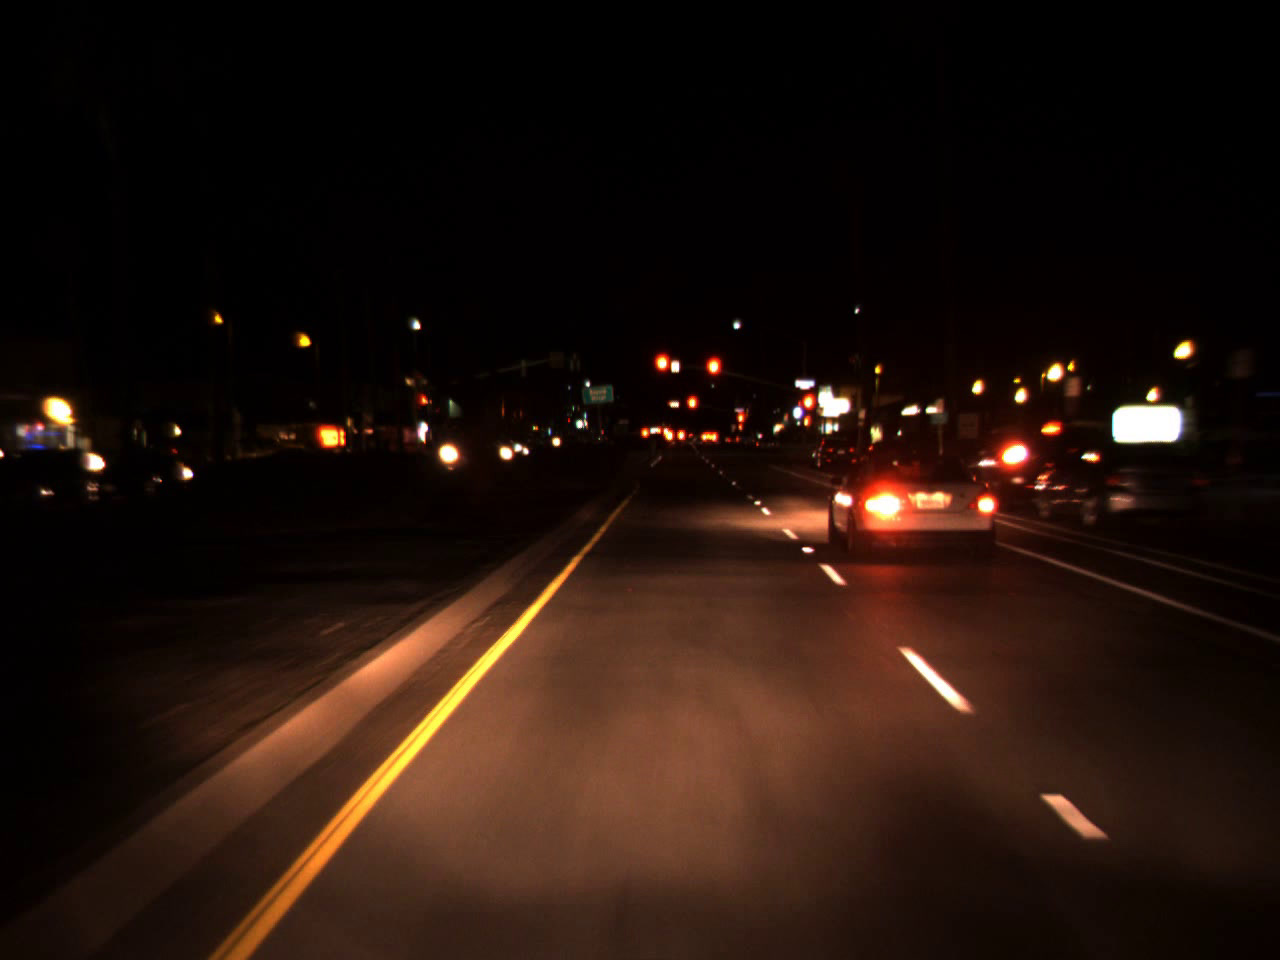stop: (703, 354, 724, 397), (652, 351, 671, 391), (799, 390, 818, 430), (685, 393, 698, 425), (736, 409, 745, 436), (419, 394, 429, 415)
